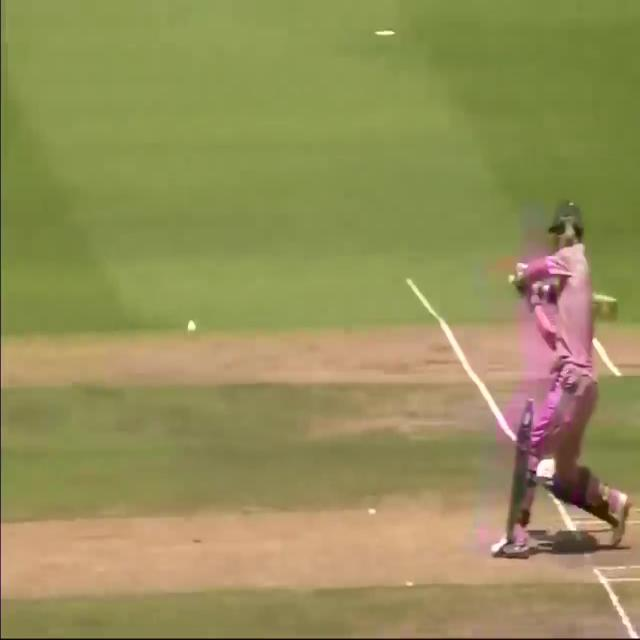Ball: (481, 182, 640, 568)
